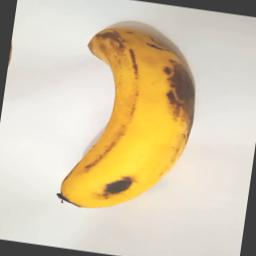Banana Unripe: (57, 26, 203, 224)
